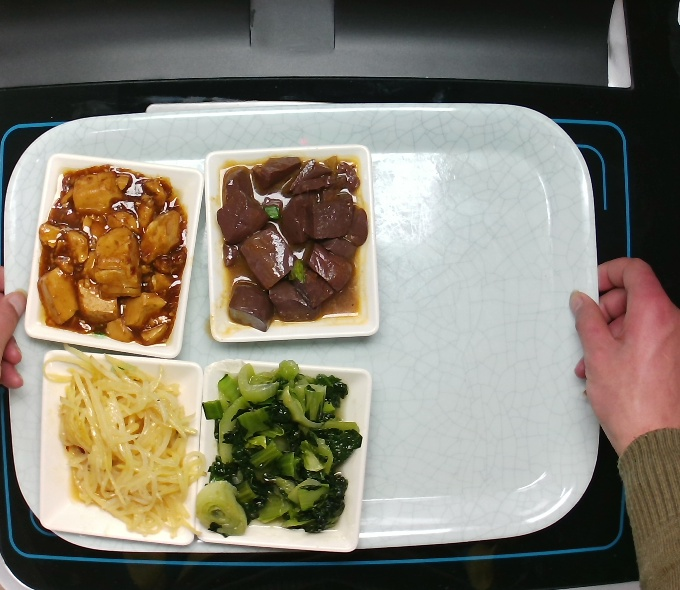wcq-MaPoDouFu: (29, 153, 192, 356)
wcq-NiuXue: (205, 135, 368, 338)
wcq-TuDouSi: (38, 348, 201, 551)
wcq-YouDongCai: (193, 355, 356, 558)
